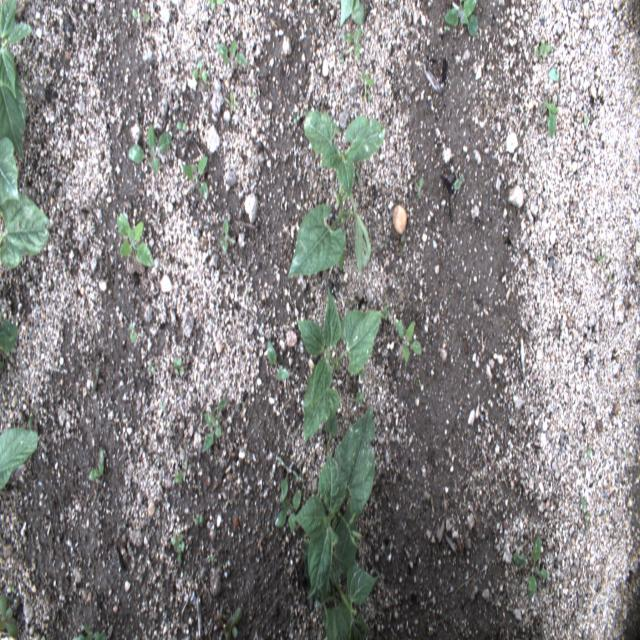crop: (295, 404, 381, 638), (289, 106, 383, 280), (296, 284, 380, 438), (0, 0, 34, 159), (0, 190, 50, 266), (2, 429, 38, 491), (0, 141, 20, 206), (0, 310, 17, 358), (339, 0, 365, 28), (322, 418, 339, 453)
weed: (512, 533, 550, 600), (118, 214, 160, 269), (128, 125, 172, 175), (393, 319, 423, 366), (275, 486, 304, 533), (201, 396, 225, 451), (443, 1, 480, 36), (181, 155, 209, 201), (590, 245, 618, 287), (266, 338, 292, 383), (539, 94, 561, 139), (216, 40, 250, 68), (277, 457, 301, 496), (0, 589, 18, 635), (344, 26, 363, 62), (170, 532, 188, 566), (358, 64, 374, 100), (88, 446, 104, 481), (129, 4, 153, 26), (217, 217, 231, 254), (172, 458, 190, 486), (92, 362, 107, 394), (71, 627, 109, 639), (225, 610, 242, 636), (191, 59, 208, 84), (534, 37, 553, 59), (578, 493, 591, 522), (545, 65, 561, 88), (214, 600, 225, 633), (412, 174, 424, 204), (452, 170, 467, 192), (398, 230, 408, 262), (126, 319, 138, 345), (172, 356, 186, 378), (175, 116, 189, 136), (227, 88, 237, 116), (205, 0, 227, 11), (354, 390, 365, 412), (25, 406, 35, 428), (381, 303, 392, 323), (290, 108, 300, 128), (192, 515, 205, 530), (206, 554, 218, 570), (338, 46, 345, 65), (144, 364, 158, 373), (586, 440, 592, 460), (583, 111, 589, 130), (336, 257, 344, 270)
